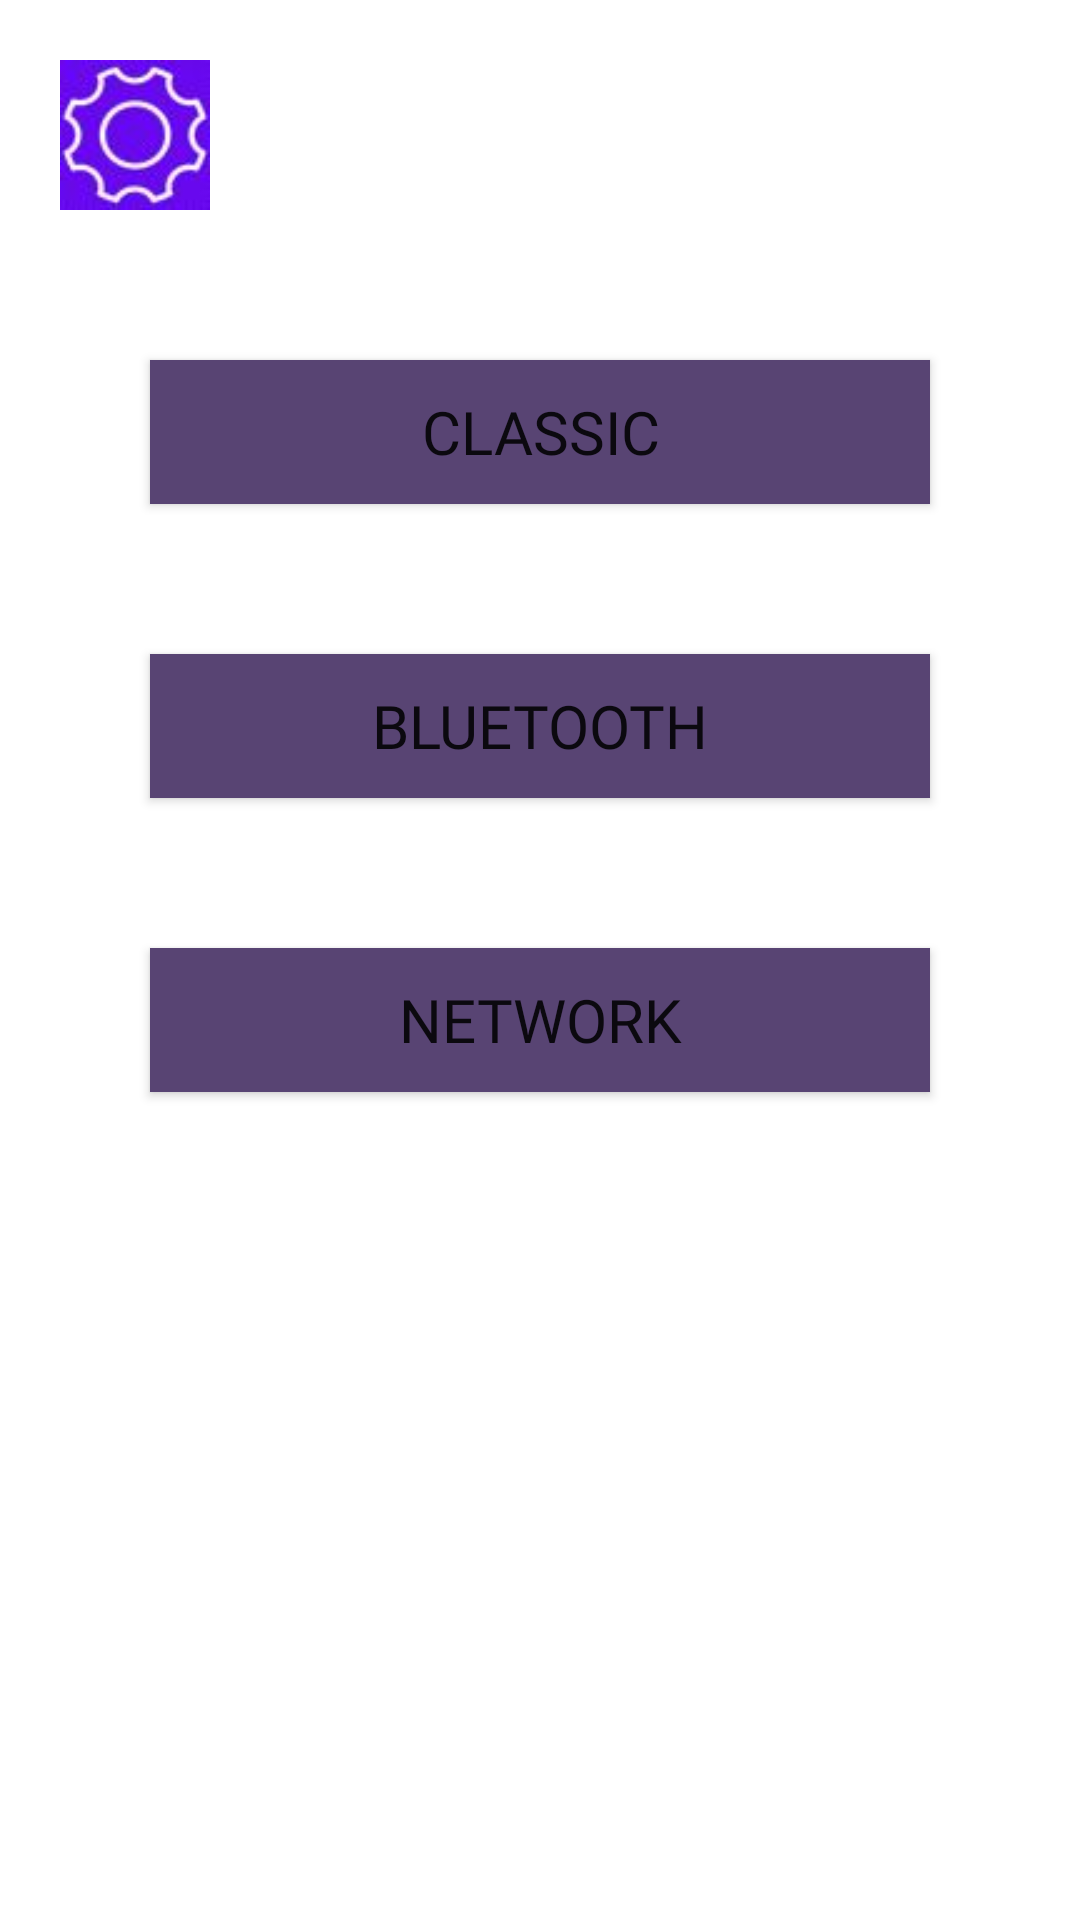

Icon click points for this 1080 × 1920 phone screenshot, format point (x, y):
settingsicon: point (135, 135)
